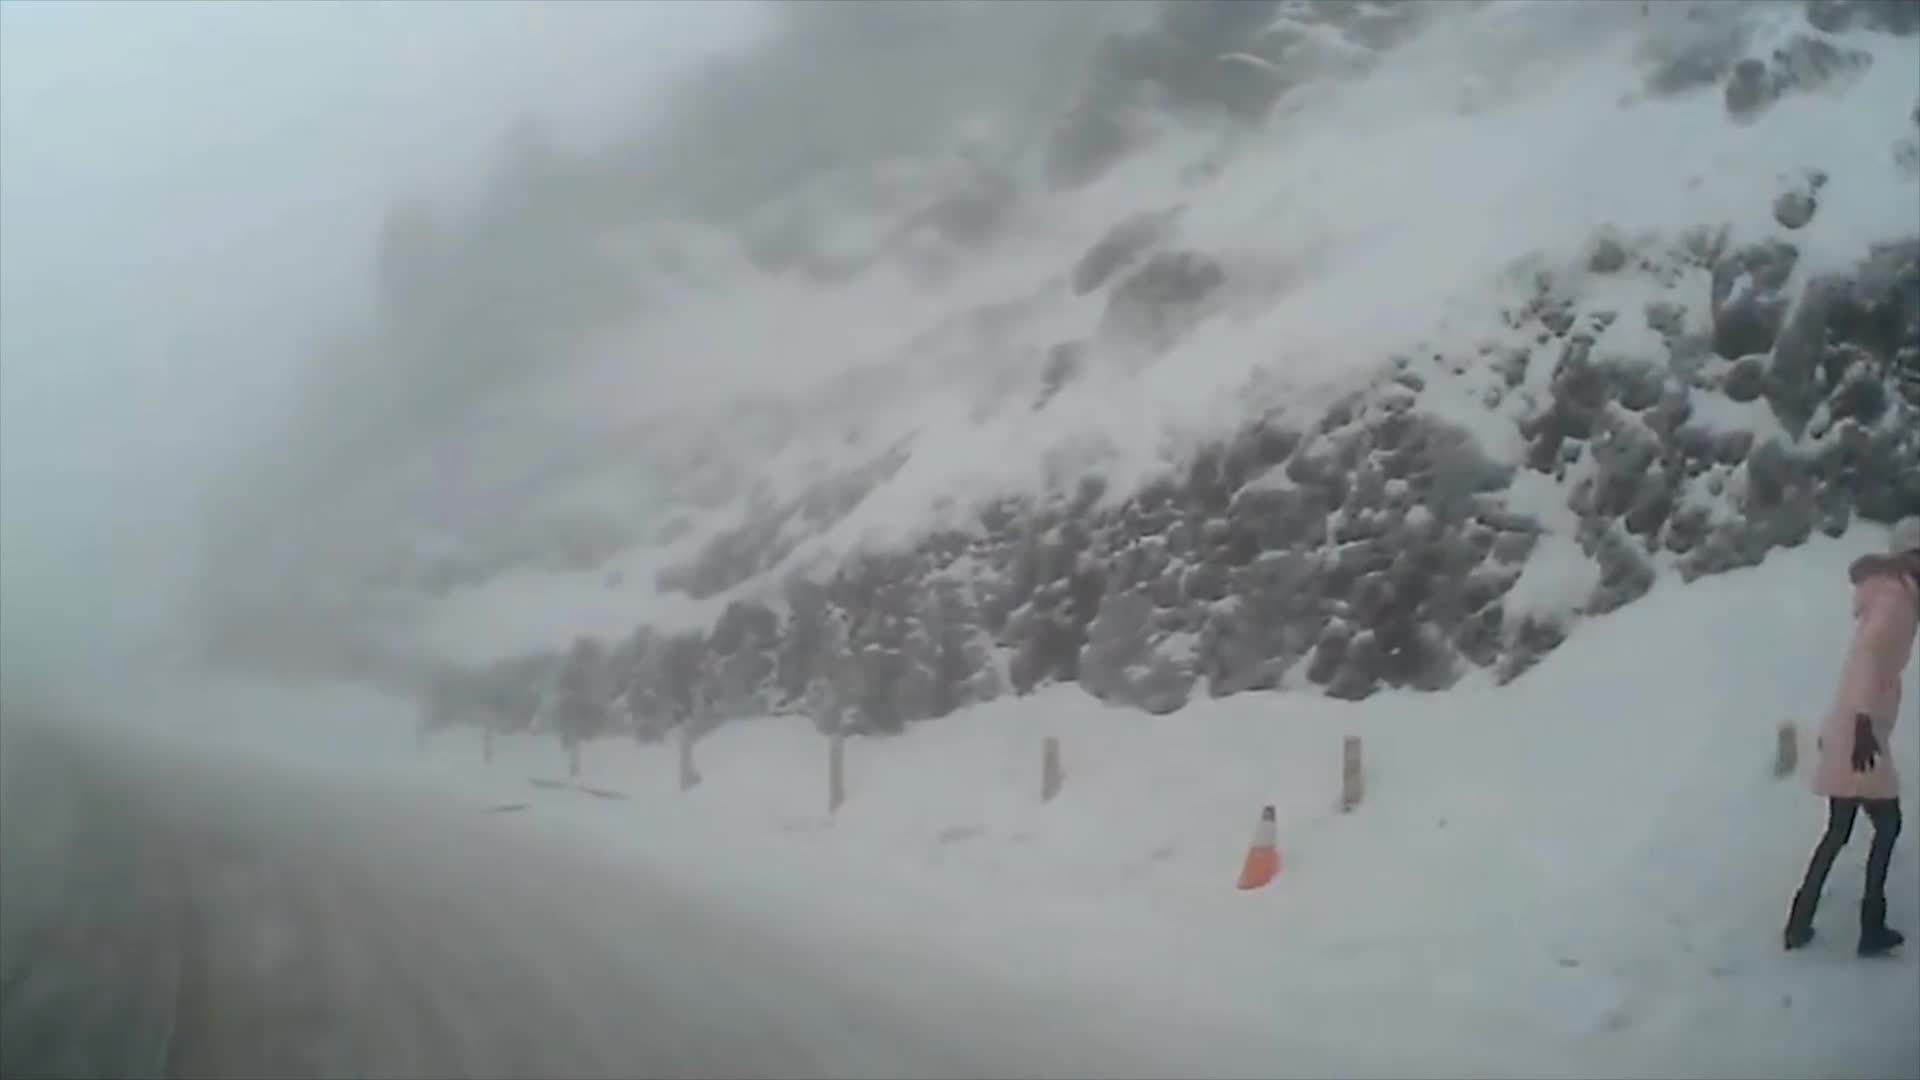pedestrian: (1785, 512, 1920, 955)
